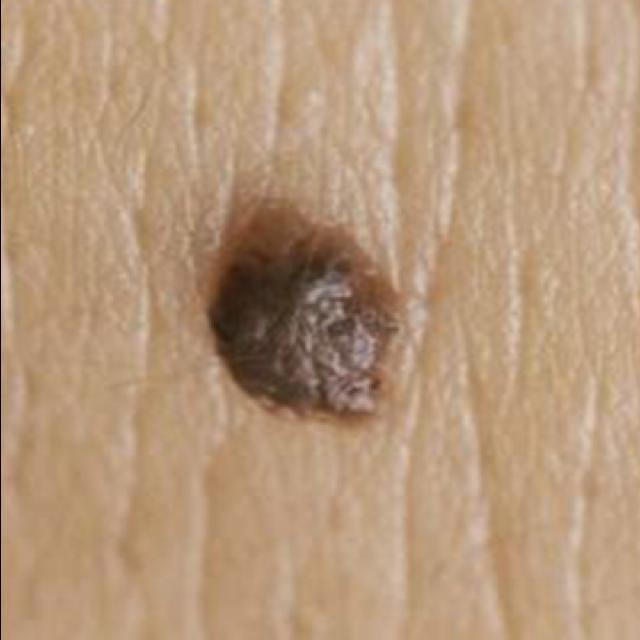wart: (205, 180, 422, 442)
